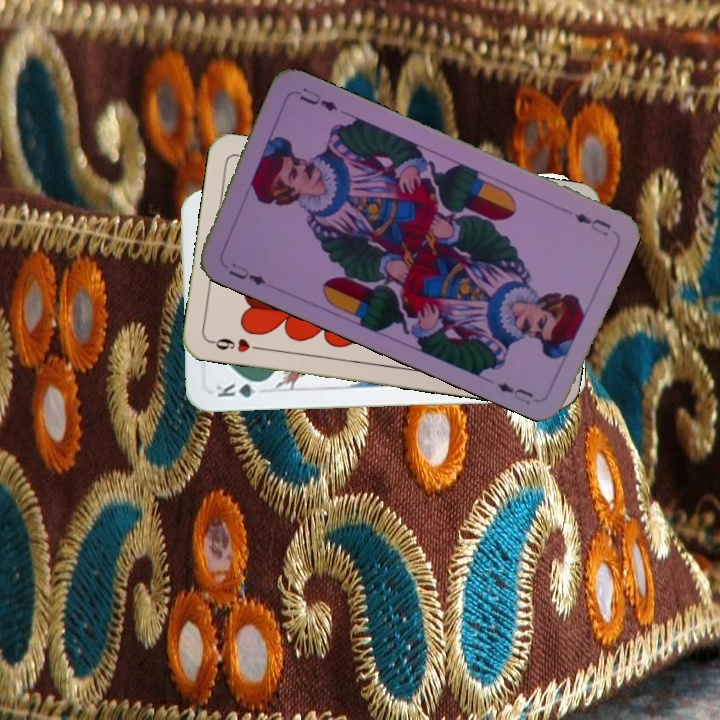EU: (570, 209, 615, 239), (224, 259, 269, 288)
GK: (212, 377, 269, 400)
H9: (206, 334, 266, 355)
